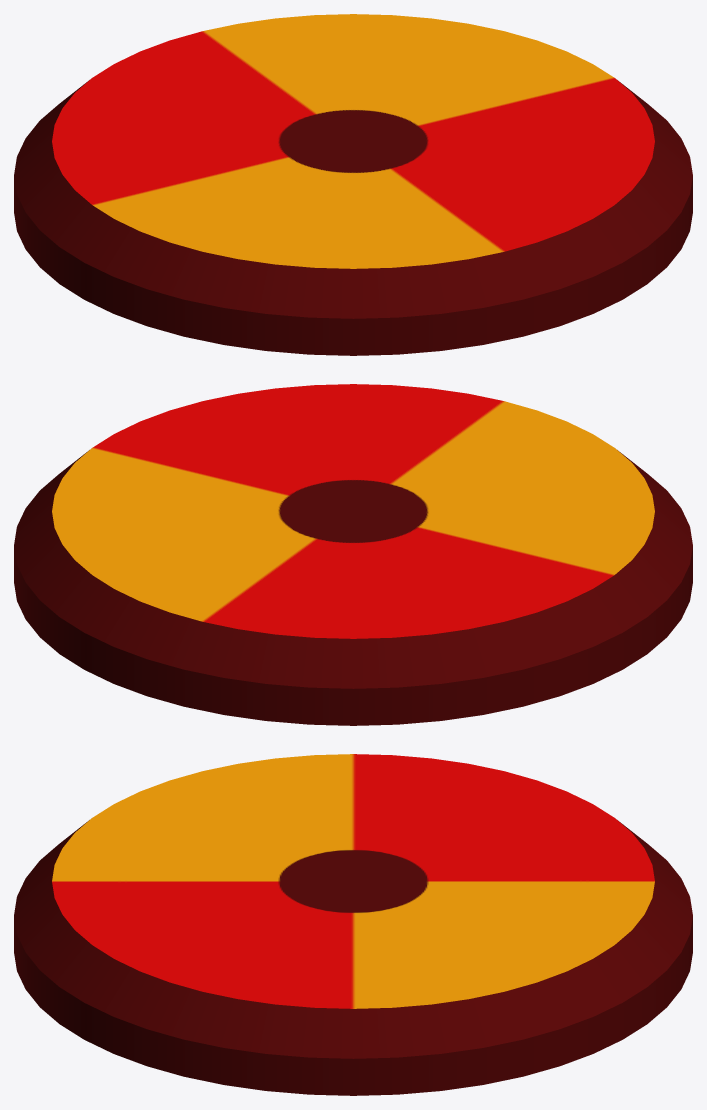
File: Fbx_Checkpoint.fbx
3 renders of one model, top to bottom at view 1: azimuth 30°, elevation 25°; view 2: azimuth 150°, elevation 25°; view 3: azimuth 270°, elevation 25°, orthographic.
Visible parts, largest first — view 1: Checkpoint_LOD0; view 2: Checkpoint_LOD0; view 3: Checkpoint_LOD0.
Boxes of the visible parts, bbox=[...] form: Checkpoint_LOD0: bbox=[14, 14, 692, 355]; Checkpoint_LOD0: bbox=[14, 384, 692, 725]; Checkpoint_LOD0: bbox=[14, 754, 692, 1095].
Size of what is drawn, in the model's own units: 191 by 22.03 by 191.
1 material, 1 textured.
